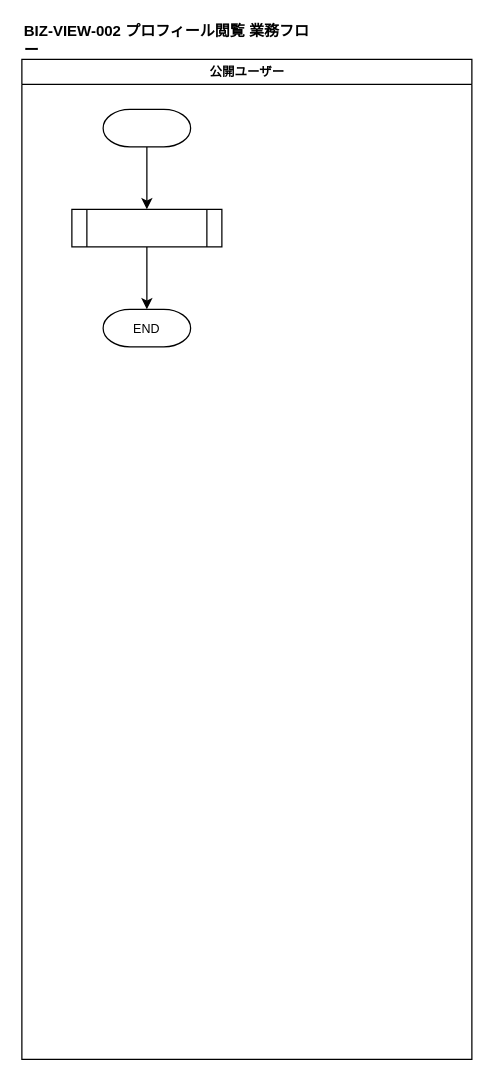
Image size: 494x1081. Some labels were removed from this diagram. The shapes that lost their labels are listed below. From the top down, each one's centre as x and y in pixels, then its label:
the point at 146,127: START
the point at 146,227: プロフィール表示
